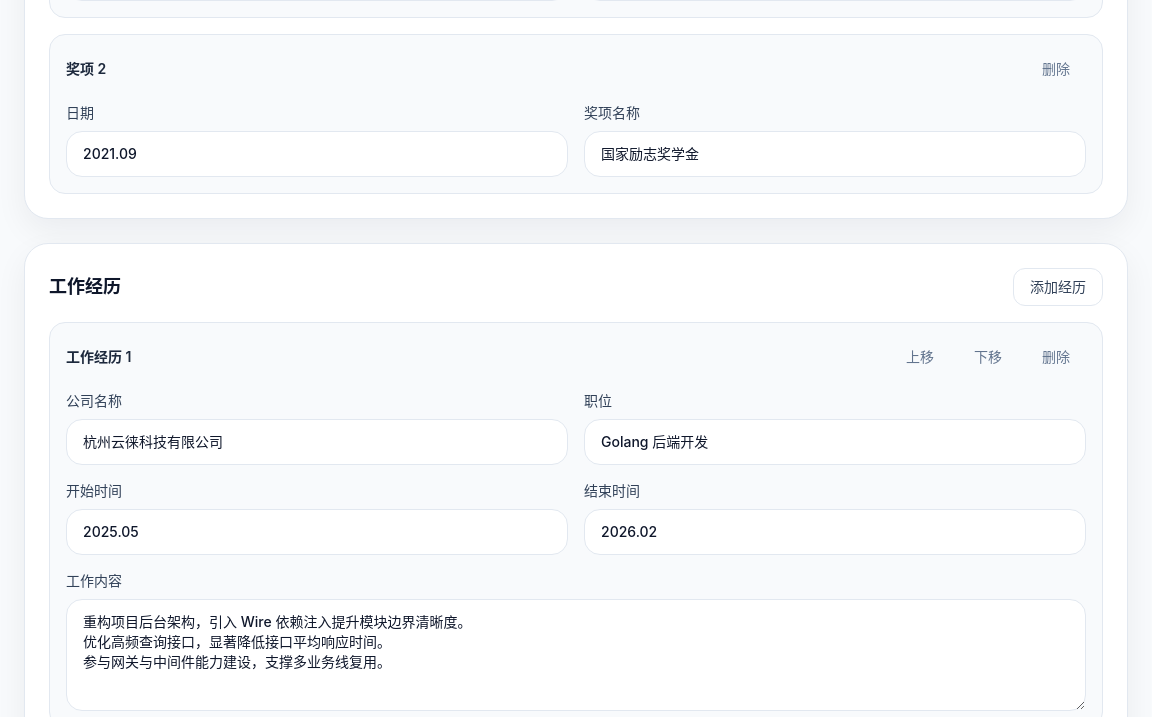
Test: edit page › moves work experience items down in the visible order
(page scrolled)
Expected: the field labelled "公司名称" holds "杭州云徕科技有限公司", [66, 419, 568, 465]
What coordinates should you click on to do the following:
click the button with aria-label "下移 工作经历 1"
I would click on:
 (988, 357)
Its box is [958, 339, 1018, 375].
(page scrolled)
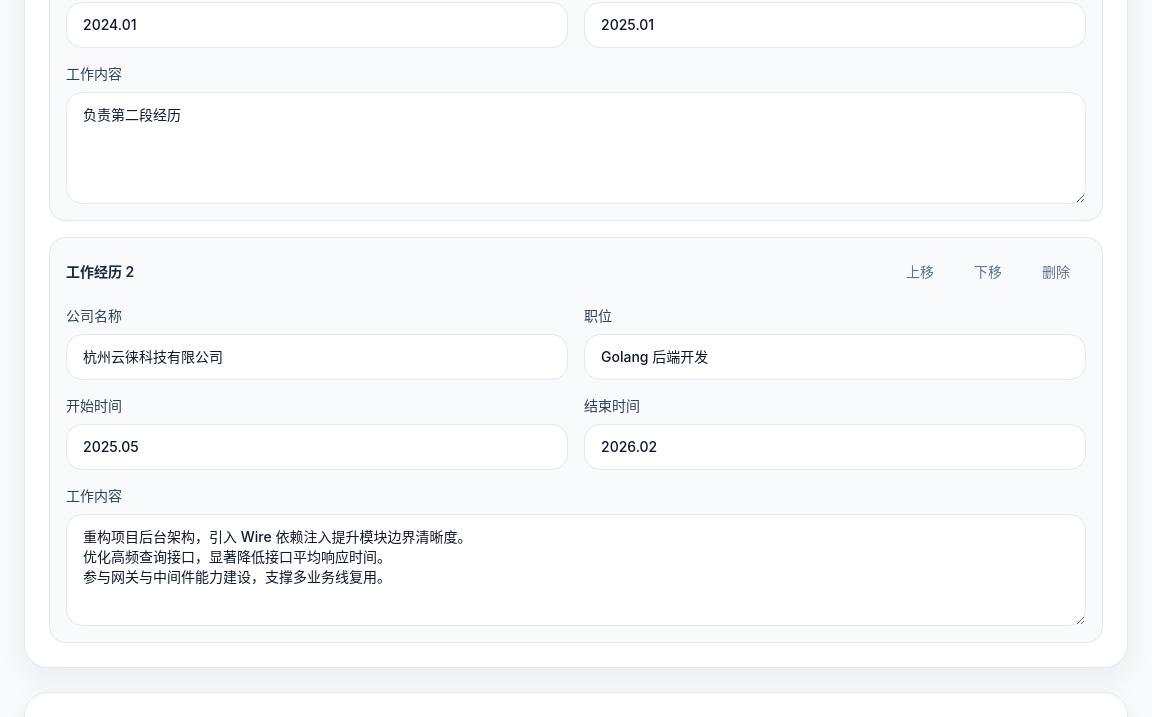
Expected: the field labelled "公司名称" holds "杭州云徕科技有限公司", [66, 334, 568, 380]
